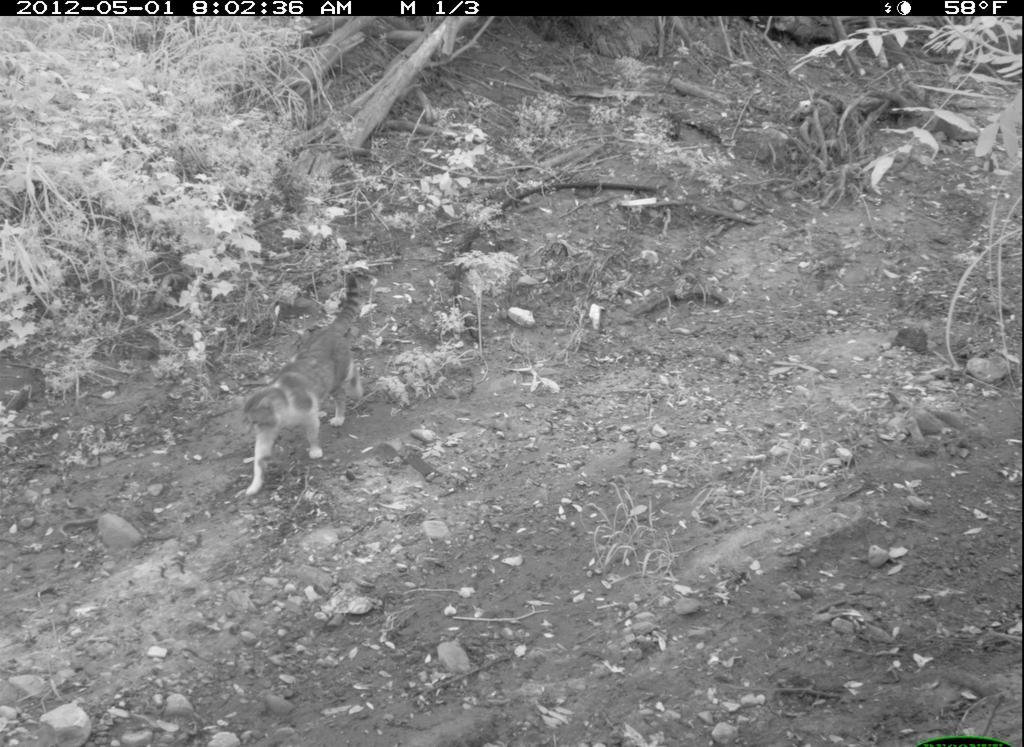cat: (228, 267, 386, 506)
